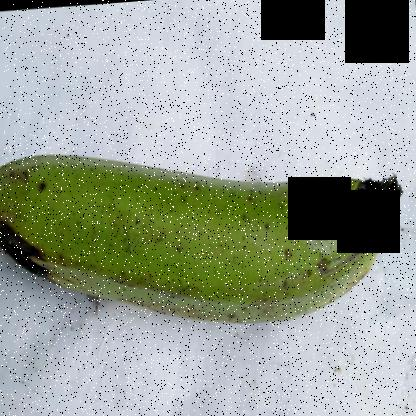unripe: (52, 128, 354, 334)
